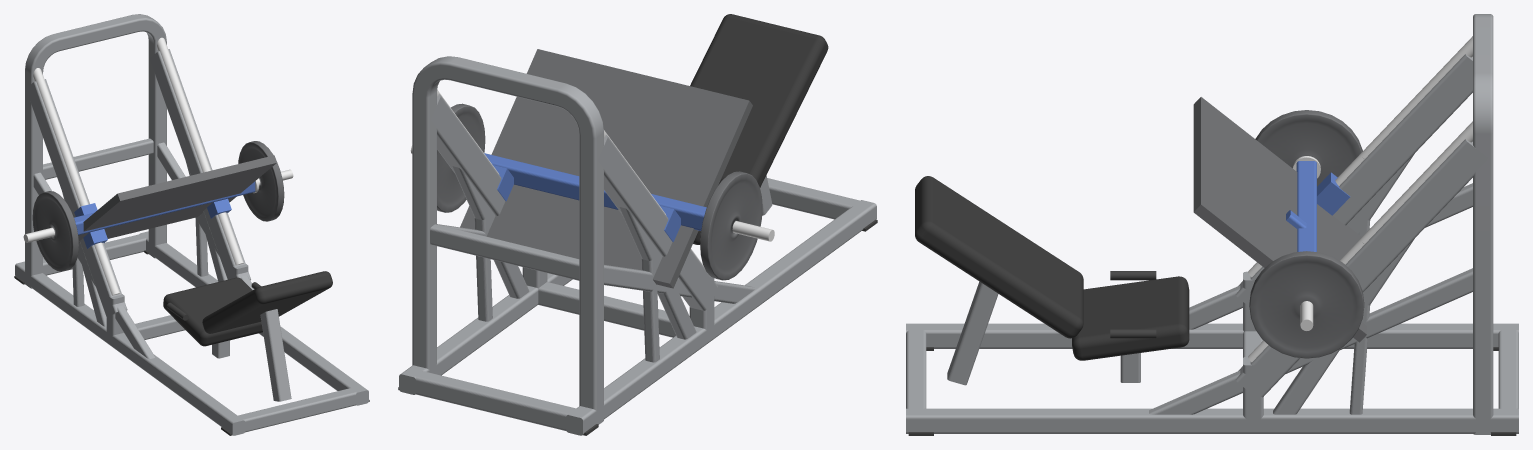
The picture shows the model from 3 angles, left to right: view 1: azimuth 30°, elevation 25°; view 2: azimuth 150°, elevation 25°; view 3: azimuth 270°, elevation 25°; orthographic projection. The views are drawn at different scales.
Visible parts, largest first — view 1: base, rear_arch_tube, foot_plate, rail_beam (×2), carriage, frame, rail (×2), backrest_pad, seat_pad, backrest, rear_tie, carriage_beam (+1 smaller); view 2: foot_plate, base, rear_arch_tube, backrest_pad, frame, rail_beam (×2), carriage, rear_tie, carriage_beam, plate_horn; view 3: base, carriage, rail_beam (×2), foot_plate, frame, backrest_pad, rear_arch_tube, seat_pad, rail (×2), backrest, carriage_beam, carriage_slider (+1 smaller).
Part boxes in pixels (x1,y1,x2,y2): base: (14, 231, 369, 435); rear_arch_tube: (25, 14, 166, 288); foot_plate: (78, 155, 276, 242); rail_beam (×2): (26, 49, 250, 318); carriage: (32, 141, 284, 271); frame: (33, 142, 254, 358); rail (×2): (33, 37, 243, 295); backrest_pad: (202, 271, 332, 333); seat_pad: (163, 277, 262, 346); backrest: (260, 309, 291, 401); rear_tie: (43, 138, 153, 179); carriage_beam: (74, 181, 255, 234); foot_plate: (460, 49, 752, 288); base: (398, 178, 877, 435); rear_arch_tube: (412, 56, 603, 424); backrest_pad: (690, 14, 828, 187); frame: (437, 166, 755, 362); rail_beam (×2): (431, 94, 717, 310); carriage: (437, 103, 762, 280); rear_tie: (430, 224, 579, 280); carriage_beam: (484, 153, 706, 230); plate_horn: (732, 221, 774, 241); base: (906, 323, 1518, 435); carriage: (1249, 110, 1364, 358); rail_beam (×2): (1235, 54, 1487, 397); foot_plate: (1193, 97, 1366, 342); frame: (1149, 153, 1472, 425); backrest_pad: (915, 176, 1083, 338); rear_arch_tube: (1473, 14, 1493, 434); seat_pad: (1072, 276, 1189, 360); rail (×2): (1248, 36, 1472, 362); backrest: (947, 281, 998, 385); carriage_beam: (1296, 161, 1316, 251); carriage_slider: (1317, 172, 1350, 215).
Bounding box in the file's own units: 1.69 × 1.48 × 2.4.
